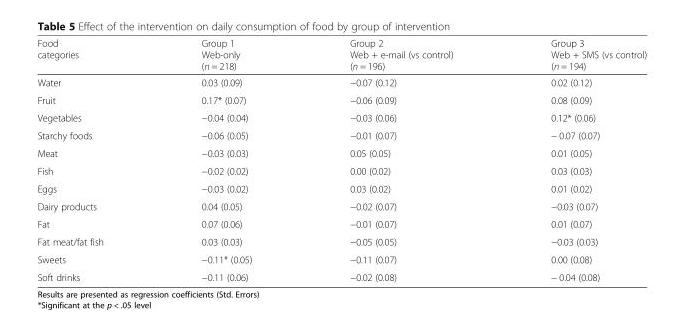table: (36, 37, 646, 282)
table column: (300, 37, 501, 282), (151, 37, 300, 282), (501, 37, 646, 282), (36, 37, 151, 282)
table column header: (36, 37, 646, 73)
table row: (36, 37, 646, 73), (36, 90, 646, 108), (36, 108, 646, 126), (36, 143, 646, 161), (36, 161, 646, 179), (36, 196, 646, 214), (36, 214, 646, 232), (36, 232, 646, 250), (36, 73, 646, 90), (36, 126, 646, 143), (36, 179, 646, 196), (36, 250, 646, 267), (36, 267, 646, 282)
